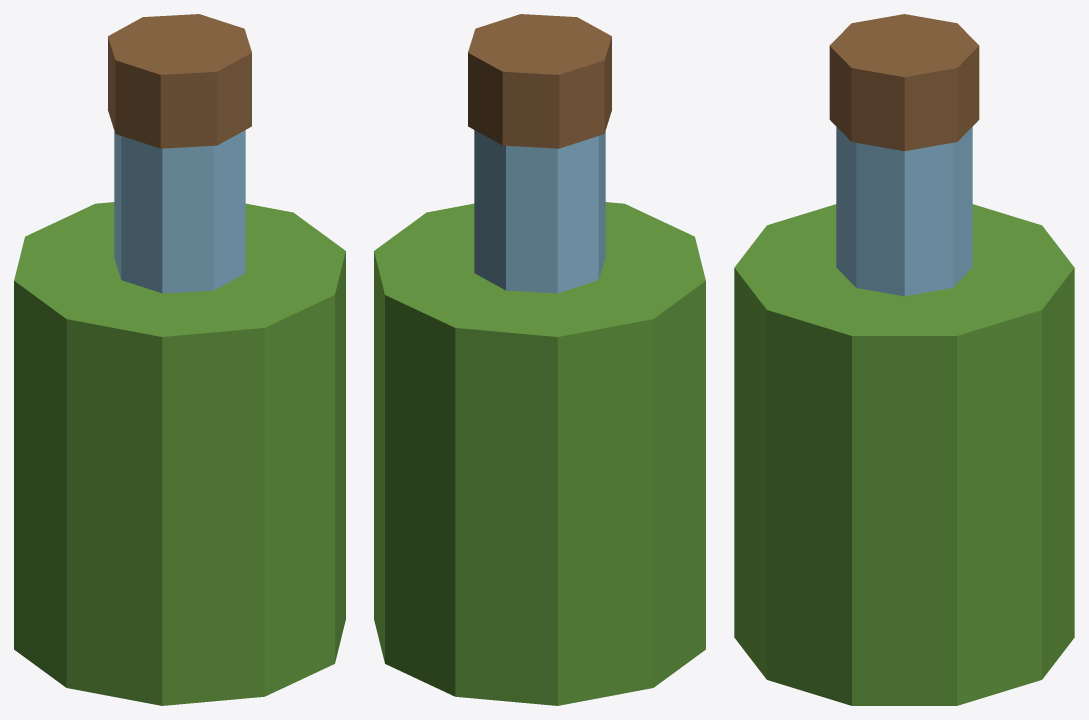
Rendered from SM_GZ_item_herbal_extract.fbx.
3 renders of one model, left to right at view 1: azimuth 30°, elevation 25°; view 2: azimuth 150°, elevation 25°; view 3: azimuth 270°, elevation 25°, orthographic.
Visible parts, largest first — view 1: SM_GZ_item_herbal_extract; view 2: SM_GZ_item_herbal_extract; view 3: SM_GZ_item_herbal_extract.
Part boxes in pixels (box(x1,y1,x2,y2)): SM_GZ_item_herbal_extract: box(14, 14, 345, 705); SM_GZ_item_herbal_extract: box(374, 14, 705, 705); SM_GZ_item_herbal_extract: box(734, 14, 1074, 705).
Size of the model in its own units: 47.55 by 96 by 50.
